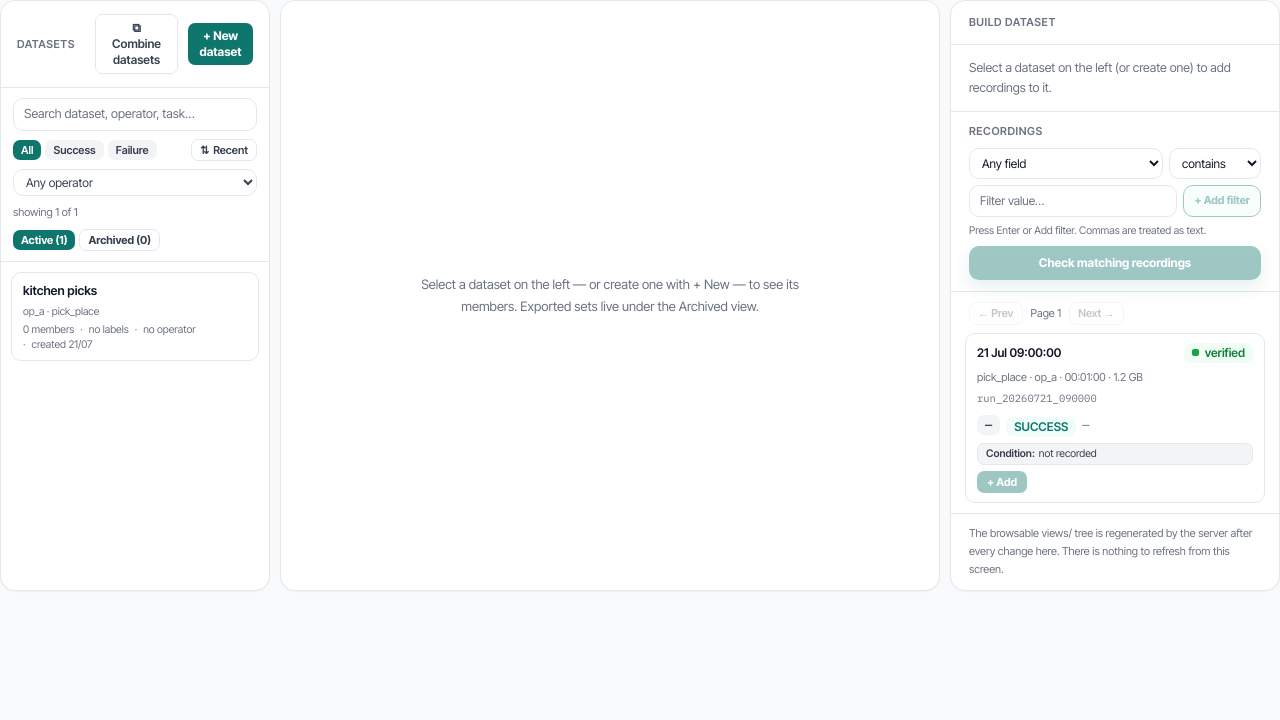
Test: E-19b: a destructive refusal is held until dismissed, not flashed in a toast
This screenshot has width=1280, height=720.
Click the button that starts with "kitchen picks" at (135, 317), box x1=11 y1=272 x2=259 y2=361
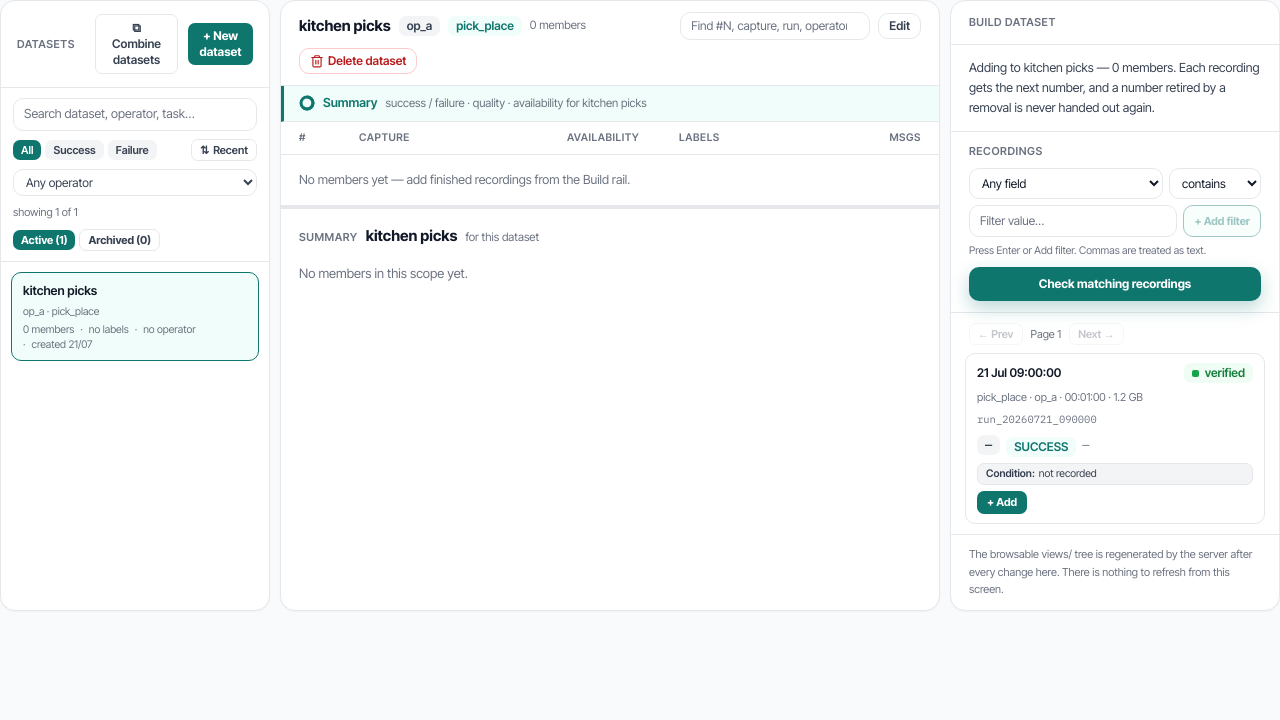
Click the button with test id "dataset-add-cap-a" at (1002, 502), box x1=977 y1=491 x2=1027 y2=514
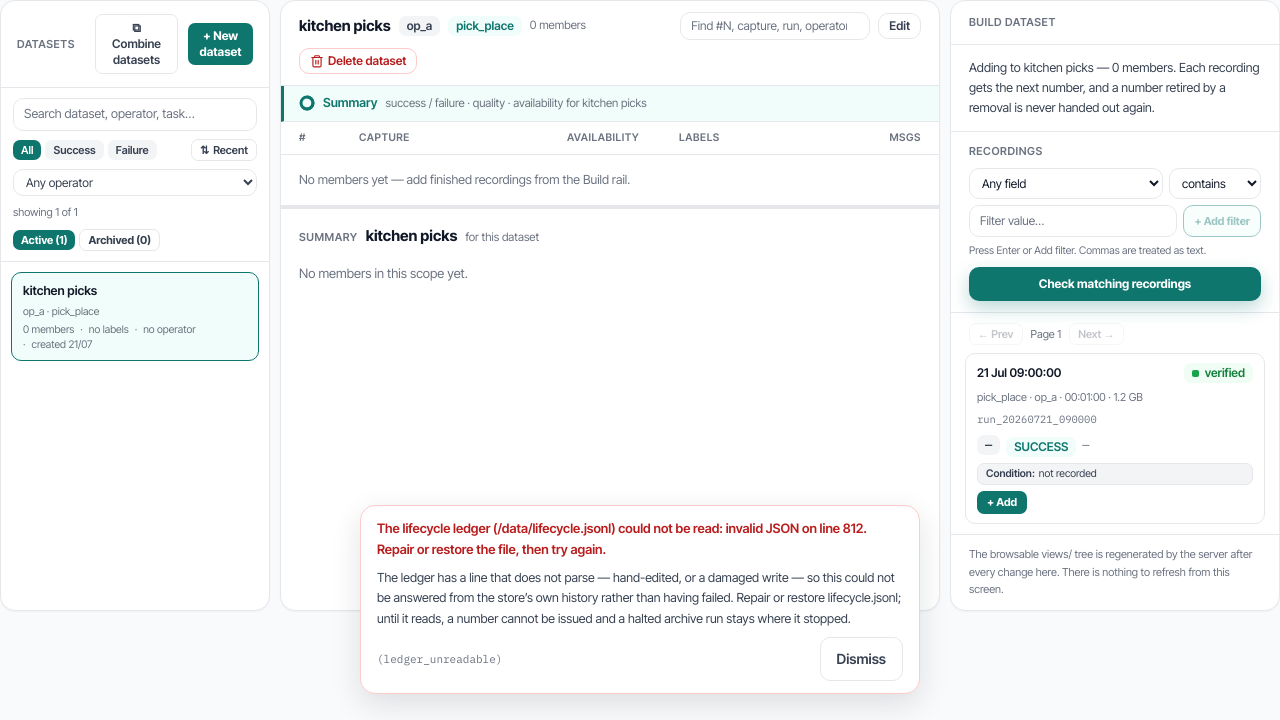
expect the message with test id "dataset-blocking-failure" shows "invalid JSON on line 812": met, box x1=377 y1=520 x2=867 y2=557
expect the message with test id "dataset-blocking-failure" shows "repair or restore": met, box x1=377 y1=520 x2=867 y2=557
expect the message with test id "dataset-blocking-failure" is shown: met, box x1=360 y1=505 x2=920 y2=694
# And it goes only when the operator says so.
Click the button with test id "dataset-blocking-failure-dismiss" at (861, 659), box x1=820 y1=637 x2=903 y2=681
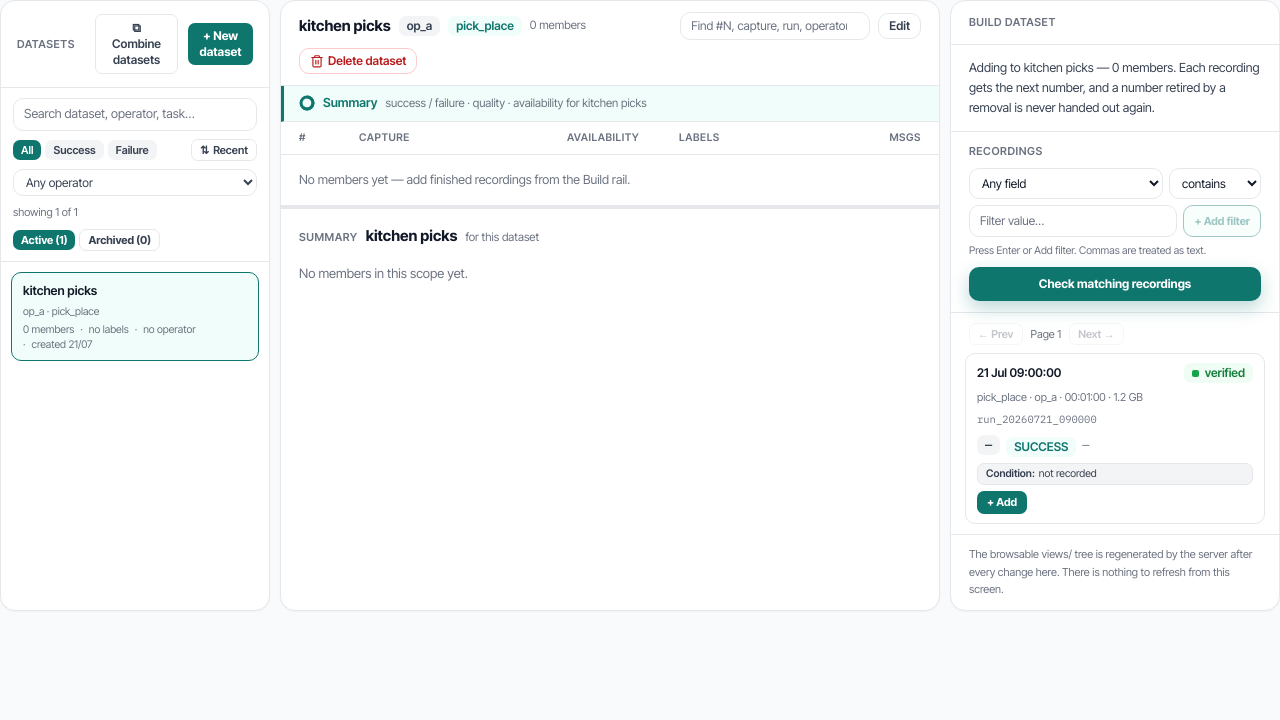
expect the message with test id "dataset-blocking-failure" is gone: met
